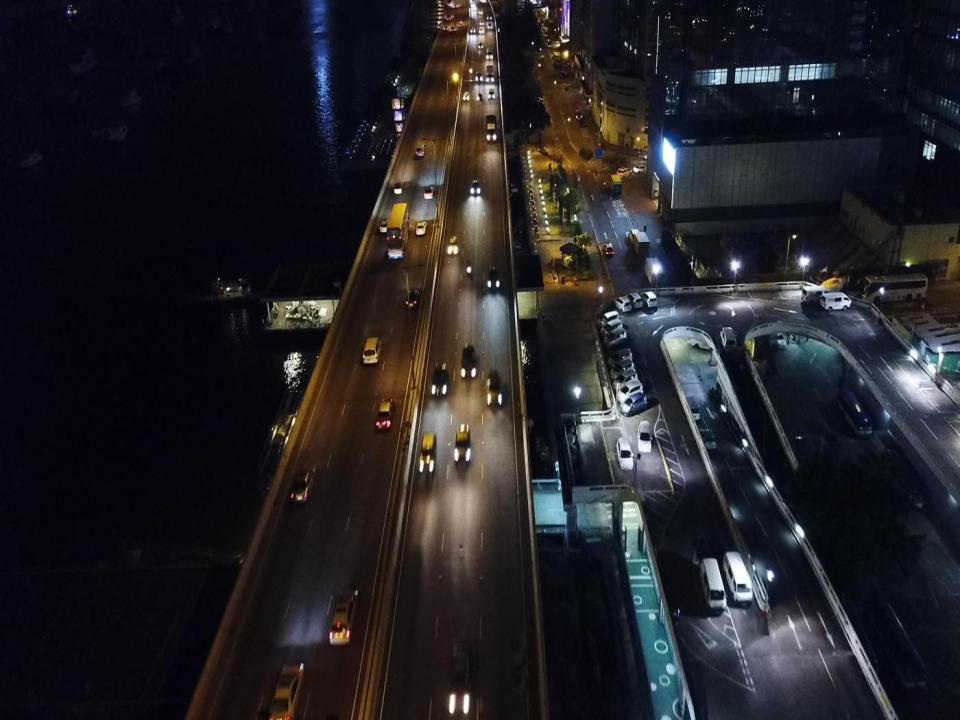bus: (836, 386, 874, 438), (858, 274, 928, 302), (387, 203, 409, 258), (542, 26, 548, 34)
car: (269, 663, 304, 719), (449, 637, 474, 713), (328, 588, 358, 646), (290, 466, 315, 503), (620, 392, 647, 417), (375, 397, 395, 430), (616, 379, 643, 403), (420, 432, 436, 471), (616, 436, 634, 470), (454, 423, 470, 461), (460, 344, 477, 378), (486, 371, 502, 407), (613, 369, 639, 390), (363, 336, 381, 365), (607, 348, 633, 368), (603, 326, 627, 347), (432, 364, 448, 395), (610, 359, 635, 378), (637, 420, 651, 452), (691, 334, 717, 351), (600, 319, 622, 338), (773, 324, 787, 350), (597, 312, 619, 328), (640, 290, 658, 308), (613, 295, 632, 312), (626, 291, 643, 309), (405, 289, 420, 307), (488, 266, 499, 290), (415, 221, 426, 236), (629, 228, 640, 243), (470, 180, 480, 195), (603, 242, 614, 255), (424, 186, 434, 199), (394, 182, 403, 195), (634, 164, 647, 172), (380, 219, 388, 231), (476, 70, 483, 82), (575, 109, 582, 120), (477, 92, 483, 100), (555, 60, 561, 68), (579, 120, 585, 128), (464, 92, 469, 100), (470, 27, 476, 33), (478, 9, 483, 14), (479, 28, 484, 33), (470, 6, 476, 10), (478, 42, 482, 48), (480, 20, 484, 25), (452, 26, 456, 31), (443, 26, 448, 30), (544, 32, 548, 37), (459, 22, 463, 26), (454, 4, 457, 8), (471, 3, 475, 6)
truck: (805, 278, 846, 300), (645, 257, 663, 284), (634, 231, 650, 255), (486, 115, 496, 143), (610, 174, 622, 195), (487, 65, 494, 82), (553, 51, 561, 62), (486, 48, 492, 58), (446, 10, 452, 20)
van: (723, 551, 753, 607), (700, 558, 726, 612), (820, 292, 851, 311), (802, 286, 832, 304), (684, 394, 700, 420), (720, 326, 736, 350), (698, 428, 716, 449), (616, 167, 632, 178), (448, 237, 457, 254), (416, 143, 425, 157), (488, 88, 494, 100), (487, 14, 492, 21), (488, 23, 492, 29)
